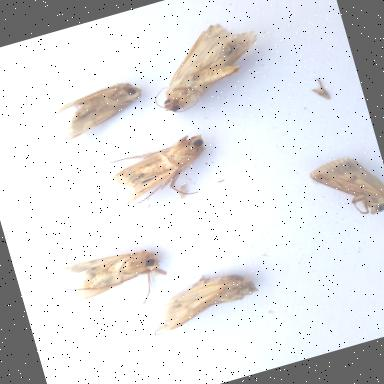abw: (131, 3, 264, 122), (98, 118, 216, 211), (143, 259, 266, 342), (56, 233, 174, 314), (43, 68, 152, 148), (289, 151, 384, 239)
